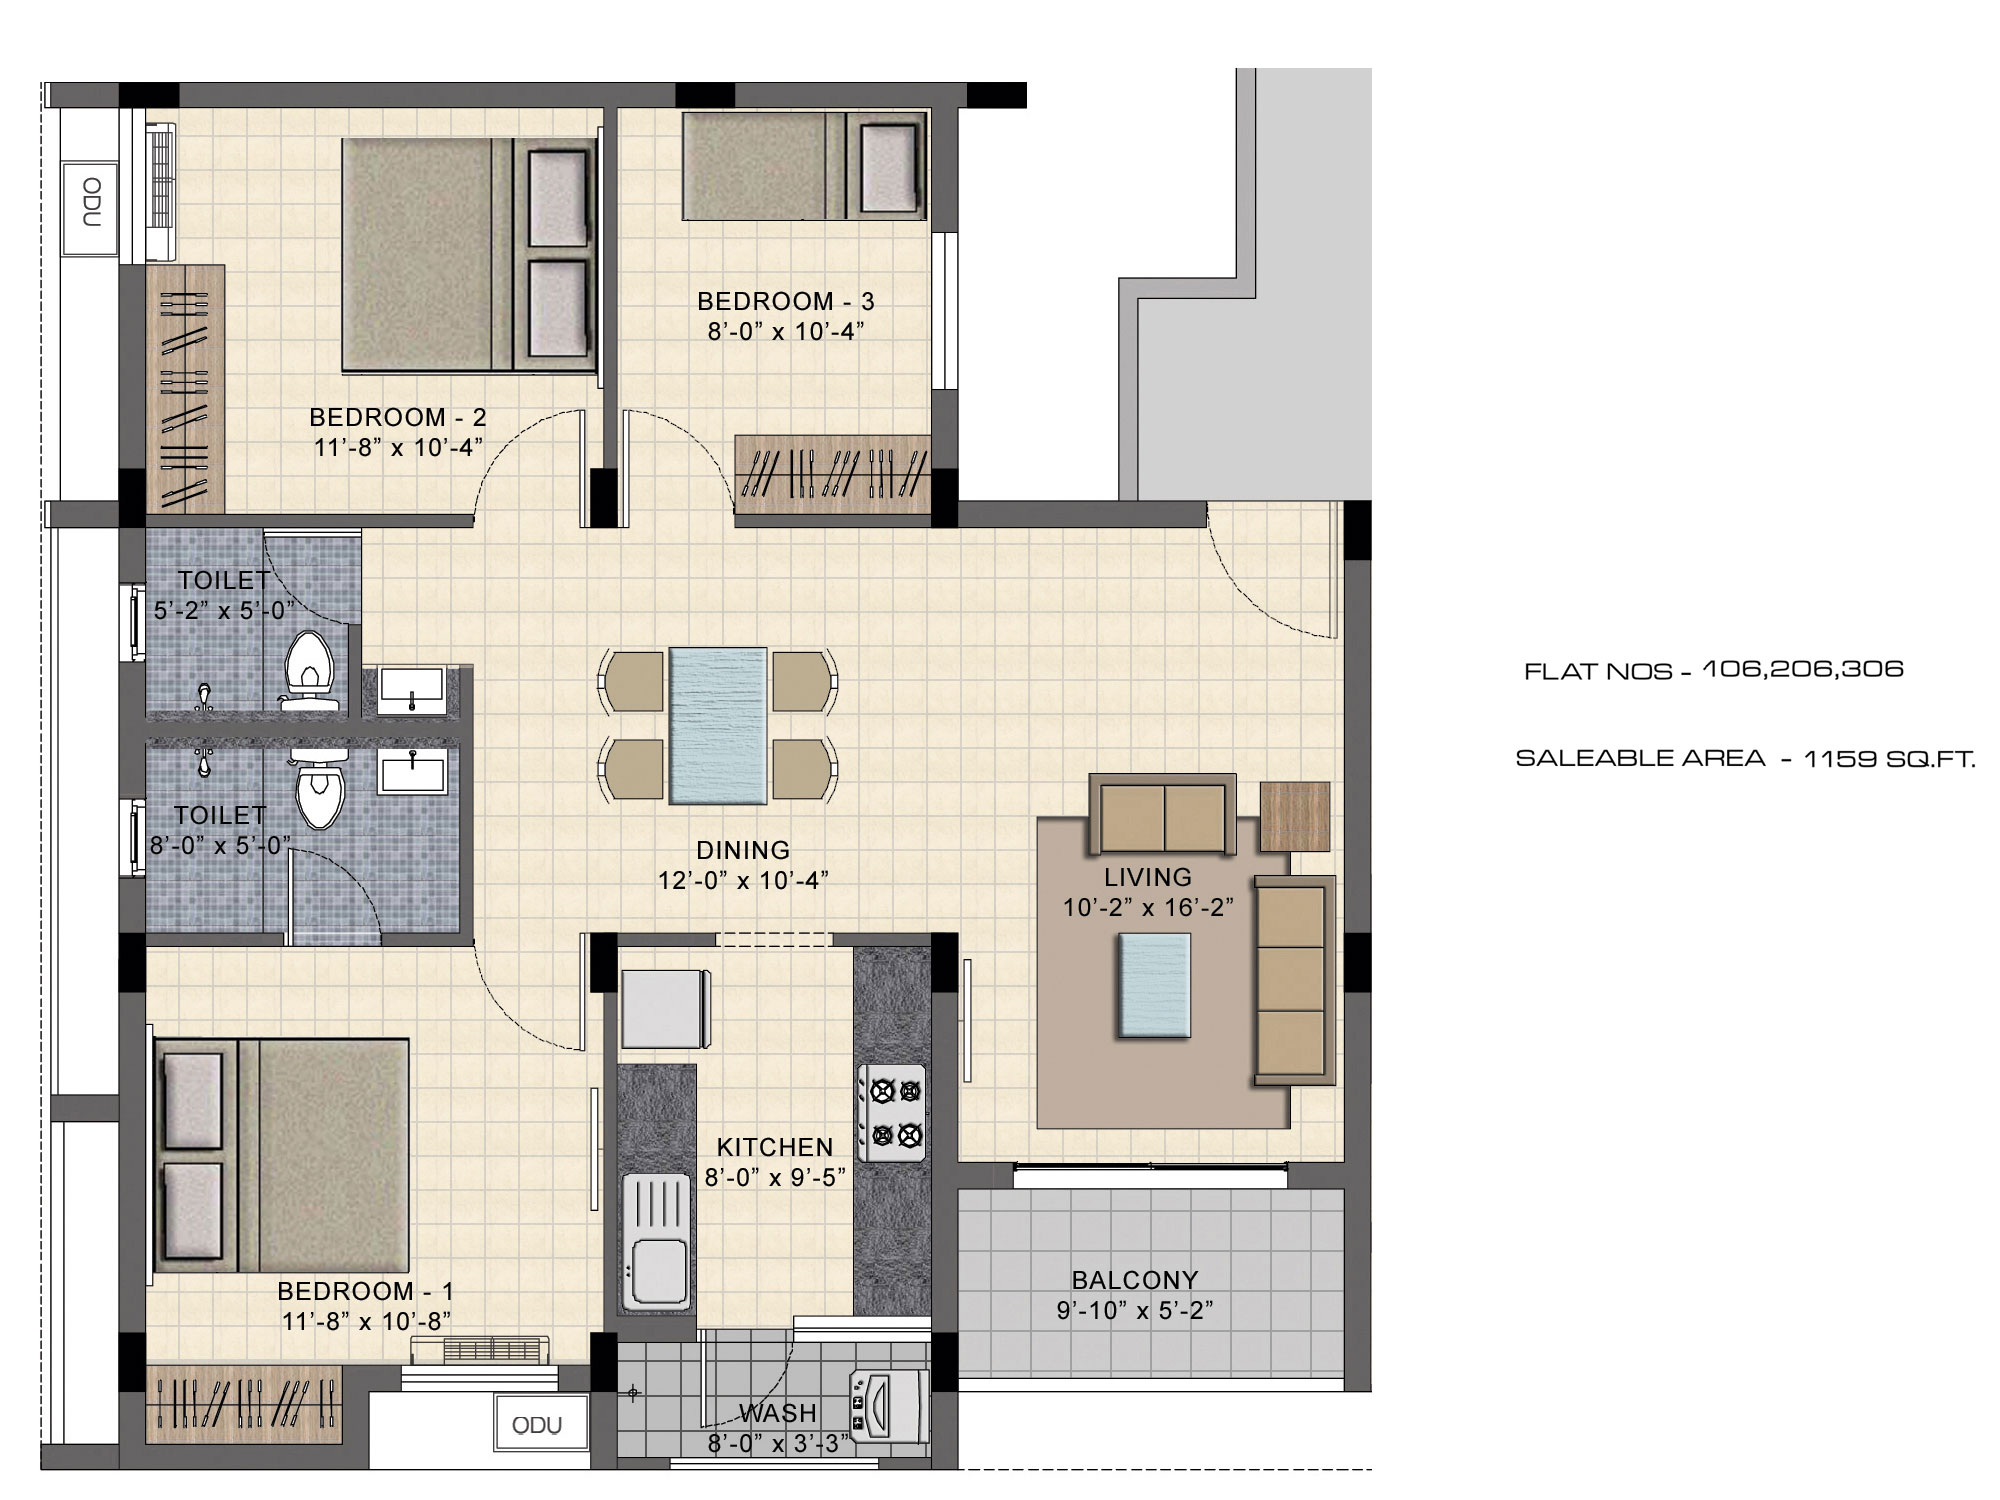door: (1209, 526, 1337, 648), (482, 942, 584, 1060), (479, 394, 583, 495), (693, 1346, 794, 1432), (624, 402, 718, 487), (287, 845, 380, 930), (261, 529, 354, 614)
